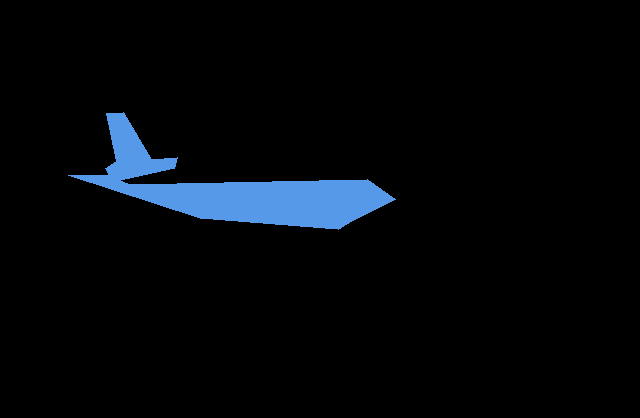Airplane: (68, 112, 396, 230)
